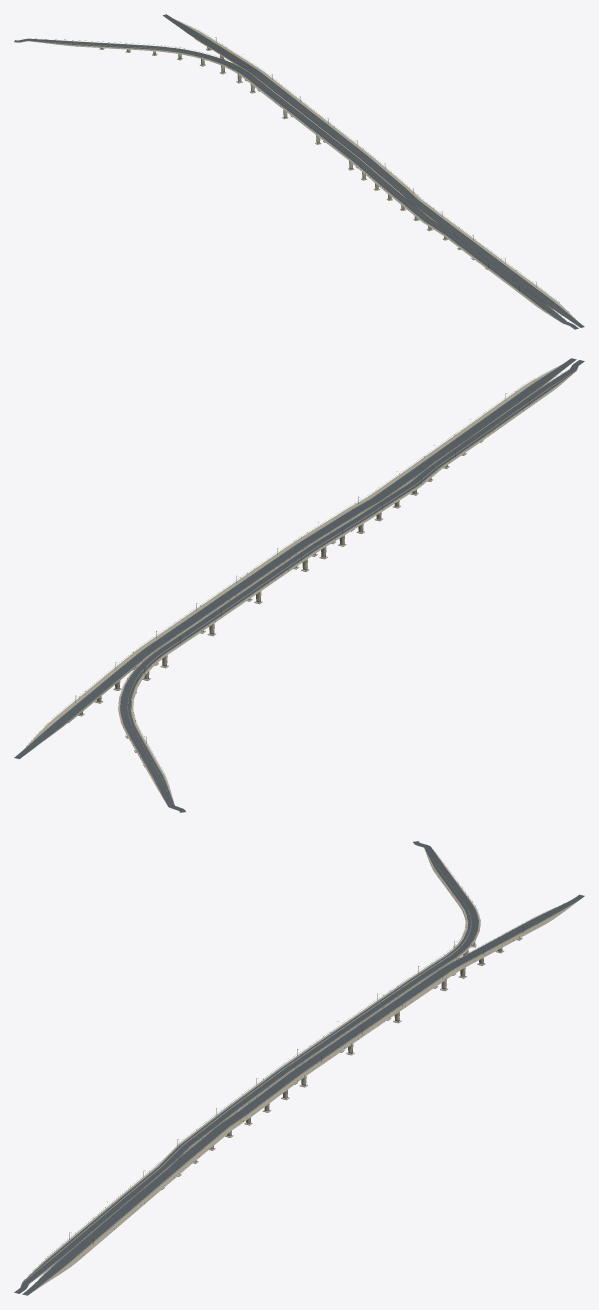
File: cambie-bridge-far.glb
3 renders of one model, top to bottom at view 1: azimuth 30°, elevation 25°; view 2: azimuth 150°, elevation 25°; view 3: azimuth 330°, elevation 25°, orthographic. The views are drawn at different scales.
Parts seen in each view (by area): view 1: cambie-bridge-sb-0-asphalt, cambie-bridge-sb-0-concrete, cambie-bridge-nb-0-asphalt, cambie-bridge-nb-0-concrete; view 2: cambie-bridge-sb-0-asphalt, cambie-bridge-nb-0-asphalt, cambie-bridge-sb-0-concrete, cambie-bridge-nb-0-concrete; view 3: cambie-bridge-sb-0-asphalt, cambie-bridge-nb-0-asphalt, cambie-bridge-nb-0-concrete, cambie-bridge-sb-0-concrete.
Boxes of the visible parts, bbox=[...] form: cambie-bridge-sb-0-asphalt: bbox=[14, 38, 578, 329]; cambie-bridge-sb-0-concrete: bbox=[16, 38, 578, 329]; cambie-bridge-nb-0-asphalt: bbox=[163, 14, 584, 327]; cambie-bridge-nb-0-concrete: bbox=[163, 16, 584, 327]; cambie-bridge-sb-0-asphalt: bbox=[120, 360, 584, 812]; cambie-bridge-nb-0-asphalt: bbox=[14, 358, 576, 758]; cambie-bridge-sb-0-concrete: bbox=[118, 361, 584, 812]; cambie-bridge-nb-0-concrete: bbox=[14, 362, 571, 759]; cambie-bridge-sb-0-asphalt: bbox=[14, 841, 478, 1293]; cambie-bridge-nb-0-asphalt: bbox=[22, 894, 584, 1295]; cambie-bridge-nb-0-concrete: bbox=[22, 896, 584, 1295]; cambie-bridge-sb-0-concrete: bbox=[14, 843, 480, 1293].
Size of the model in its own units: 205 by 26.64 by 1057.
